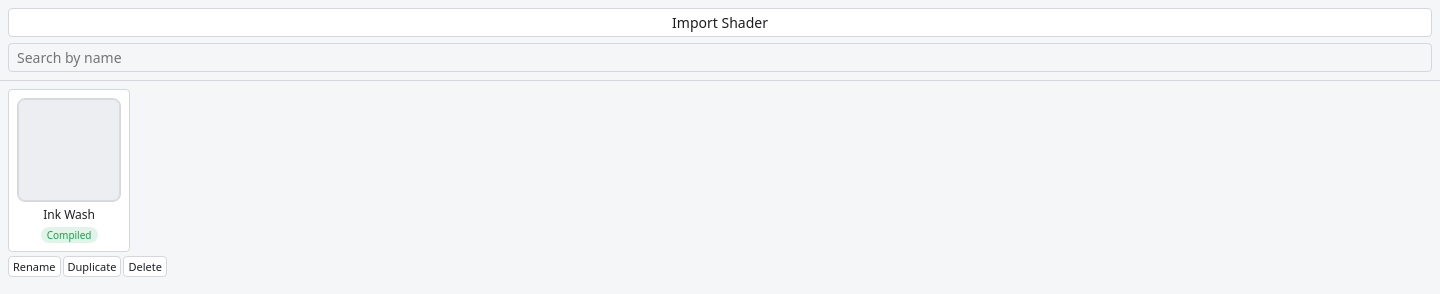
ShadersPanel grid and badges › shows a no-match message when the search filters everything out
Expected: the text "Ink Wash" is shown, [43, 206, 95, 223]
In the search field named "Search shaders": (720, 58) [8, 43, 1432, 72], type "zzz"
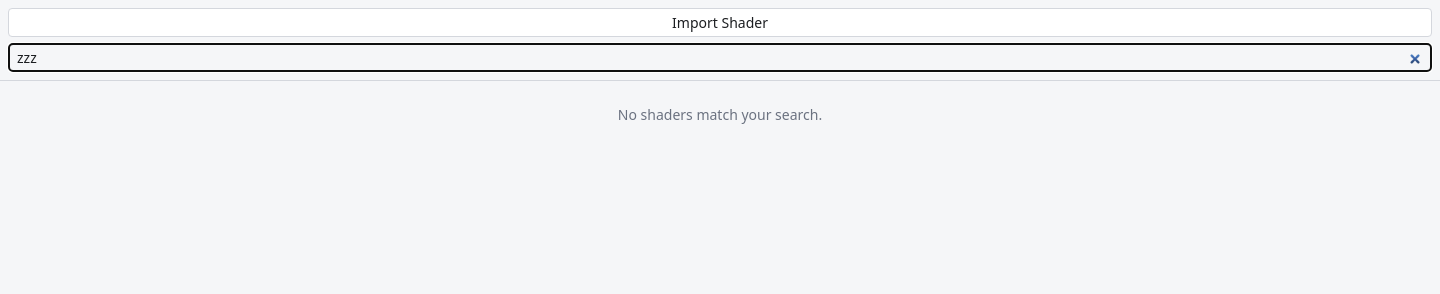
Result: the text "No shaders match your search." is shown at [618, 105, 822, 124]
